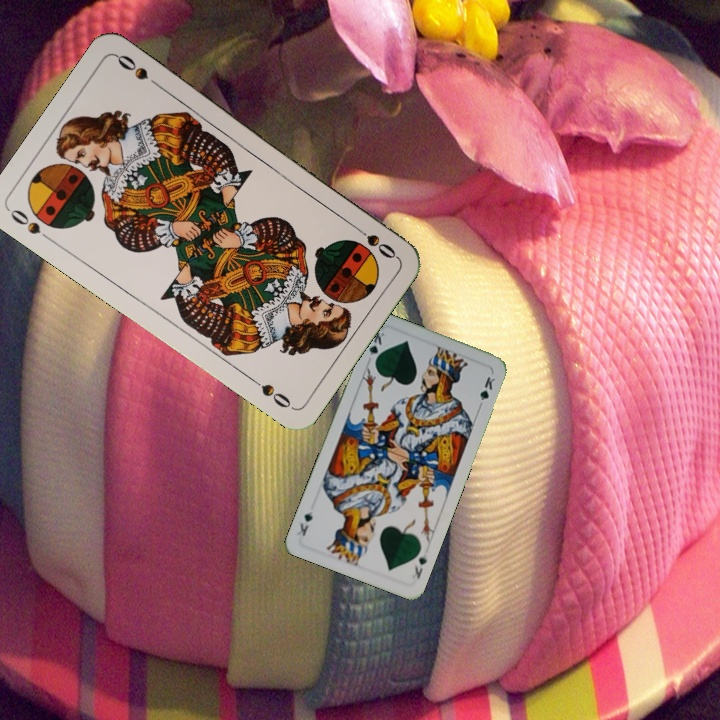GK: (365, 327, 388, 367), (410, 550, 429, 581)
SO: (348, 220, 399, 262), (6, 205, 56, 245)
